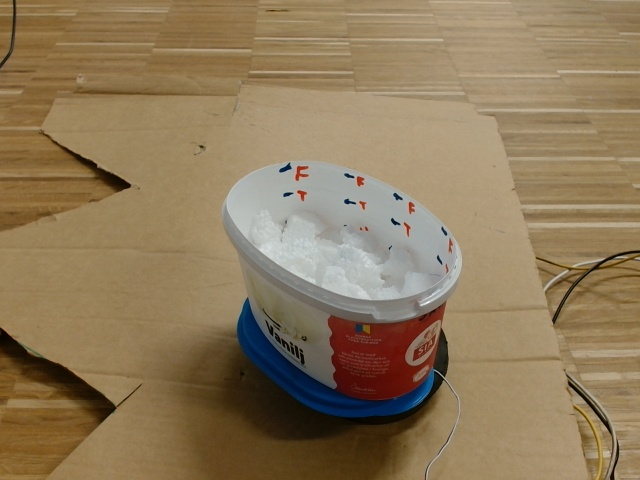Big_half: (220, 156, 467, 322)
